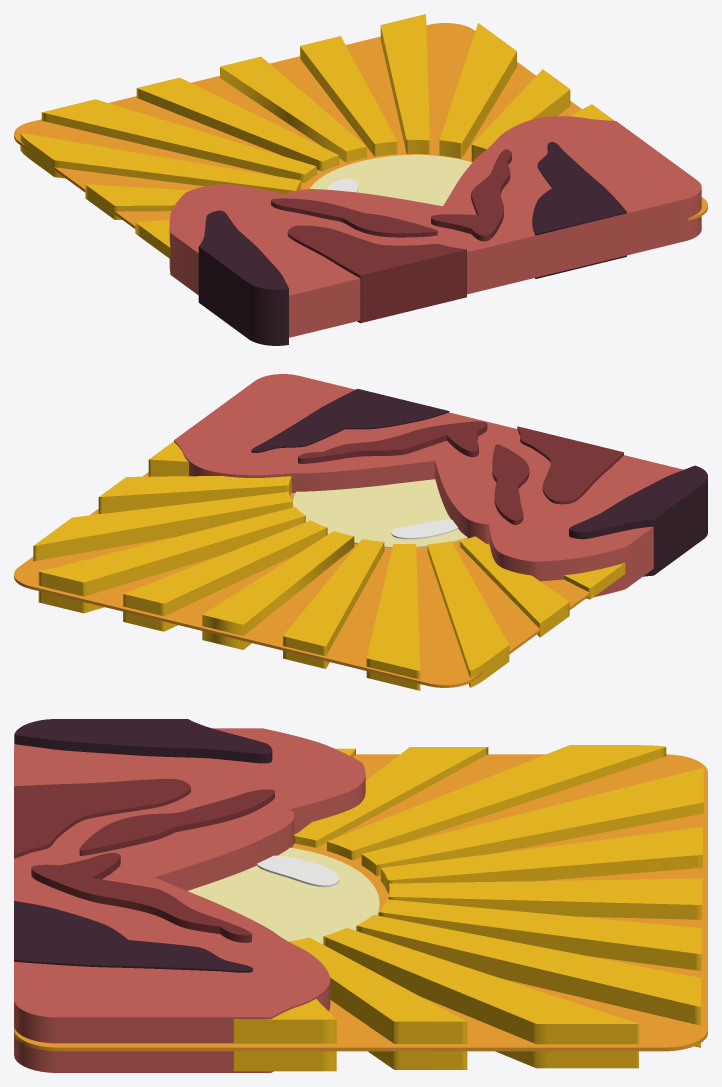
Rendered from emoji_u1f304.glb.
3 renders of one model, top to bottom at view 1: azimuth 30°, elevation 25°; view 2: azimuth 150°, elevation 25°; view 3: azimuth 270°, elevation 25°, orthographic. The views are drawn at different scales.
Parts seen in each view (by area): view 1: emoji_u1f304; view 2: emoji_u1f304; view 3: emoji_u1f304.
Part boxes in pixels (<box>): emoji_u1f304: <box>14,14,707,345</box>; emoji_u1f304: <box>14,374,707,690</box>; emoji_u1f304: <box>14,719,707,1072</box>.
Size of the model in its own units: 0.034 by 0.004 by 0.034.
